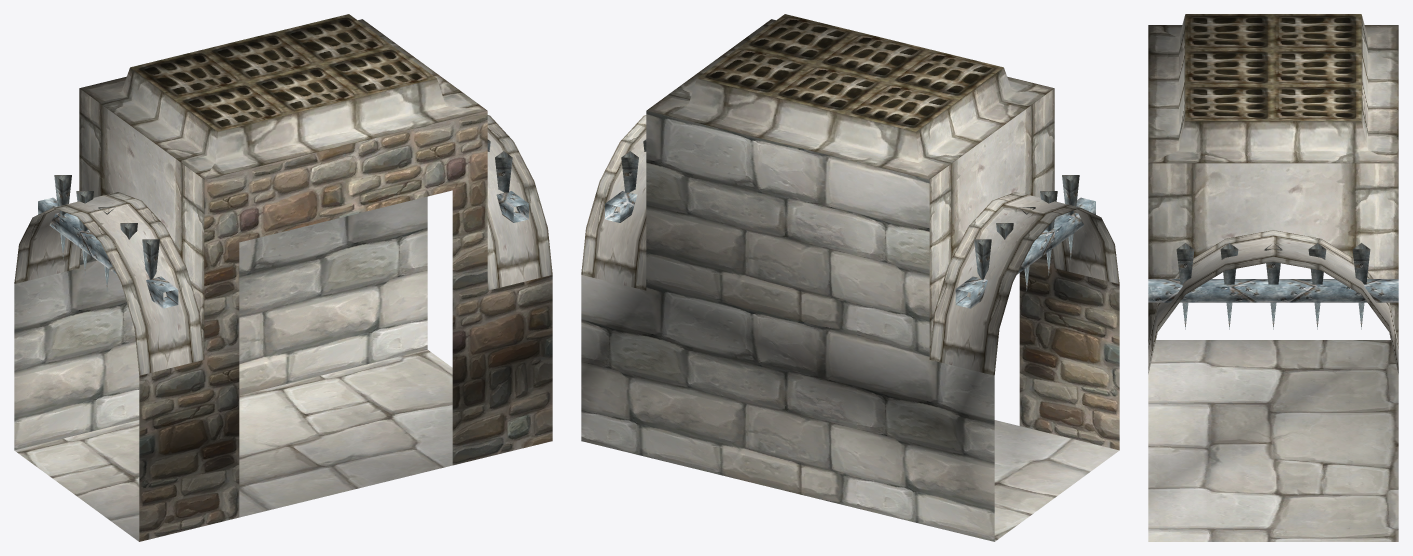
Rendered from stormwind_056.fbx.
3 renders of one model, left to right at view 1: azimuth 30°, elevation 25°; view 2: azimuth 150°, elevation 25°; view 3: azimuth 270°, elevation 25°, orthographic.
Visible parts, largest first — view 1: stormwind_056_38, stormwind_056_40, stormwind_056_39, stormwind_056_52, stormwind_056_81, stormwind_056_82; view 2: stormwind_056_39, stormwind_056_40, stormwind_056_81, stormwind_056_38, stormwind_056_52, stormwind_056_82; view 3: stormwind_056_52, stormwind_056_40, stormwind_056_81, stormwind_056_82.
Part boxes in pixels (x1,y1,x2,y2): stormwind_056_38: [139, 110, 552, 541]; stormwind_056_40: [14, 19, 552, 375]; stormwind_056_39: [14, 196, 427, 450]; stormwind_056_52: [14, 349, 452, 541]; stormwind_056_81: [130, 14, 436, 131]; stormwind_056_82: [38, 139, 528, 308]; stormwind_056_39: [581, 110, 994, 541]; stormwind_056_40: [581, 19, 1119, 375]; stormwind_056_81: [697, 14, 1003, 131]; stormwind_056_38: [1019, 249, 1119, 450]; stormwind_056_52: [994, 420, 1119, 541]; stormwind_056_82: [605, 139, 1095, 308]; stormwind_056_52: [1148, 340, 1398, 541]; stormwind_056_40: [1148, 15, 1398, 373]; stormwind_056_81: [1185, 14, 1361, 120]; stormwind_056_82: [1148, 243, 1398, 329].
Size of the model in its own units: 7.68 by 6.62 by 4.03.
